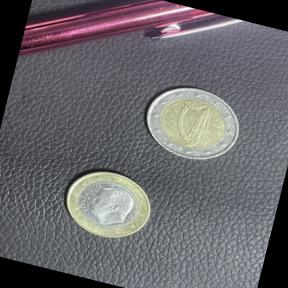1 Euro-B: (51, 158, 162, 252)
2 Euro-B: (130, 71, 251, 173)
